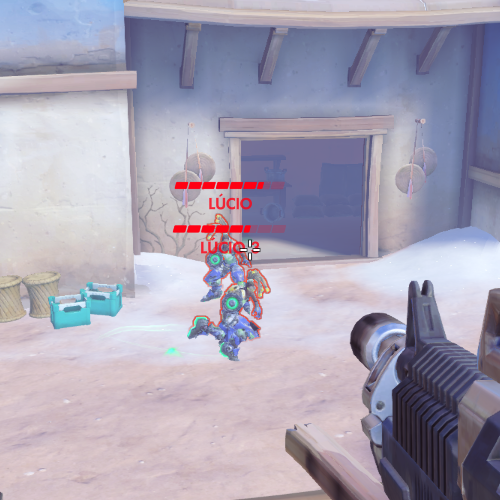hpbar: (172, 224, 287, 234), (174, 181, 285, 190)
